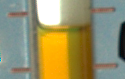border: (5, 10, 34, 19), (93, 62, 120, 70), (89, 7, 119, 14), (9, 66, 34, 74)
liquidlevel: (36, 22, 95, 35)
